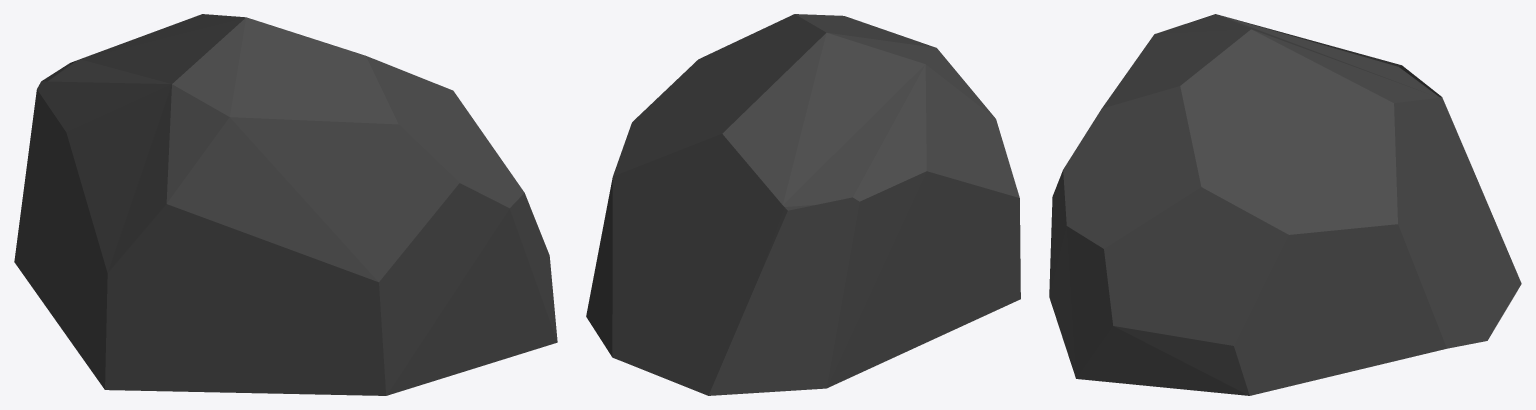
File: rock_4.FBX
3 renders of one model, left to right at view 1: azimuth 30°, elevation 25°; view 2: azimuth 150°, elevation 25°; view 3: azimuth 270°, elevation 25°, orthographic. The views are drawn at different scales.
Visible parts, largest first — view 1: rock_4; view 2: rock_4; view 3: rock_4.
Boxes of the visible parts, box(x1,y1,x2,y2) form: rock_4: box(14, 14, 557, 395); rock_4: box(586, 14, 1020, 395); rock_4: box(1049, 14, 1521, 395).
Size of the model in its own units: 0.9771 by 0.6663 by 1.08.
1 material, 1 textured.
